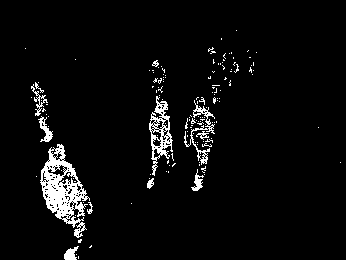person: (40, 144, 94, 260), (184, 95, 217, 192), (145, 98, 177, 191), (29, 80, 55, 144), (148, 58, 166, 107)
